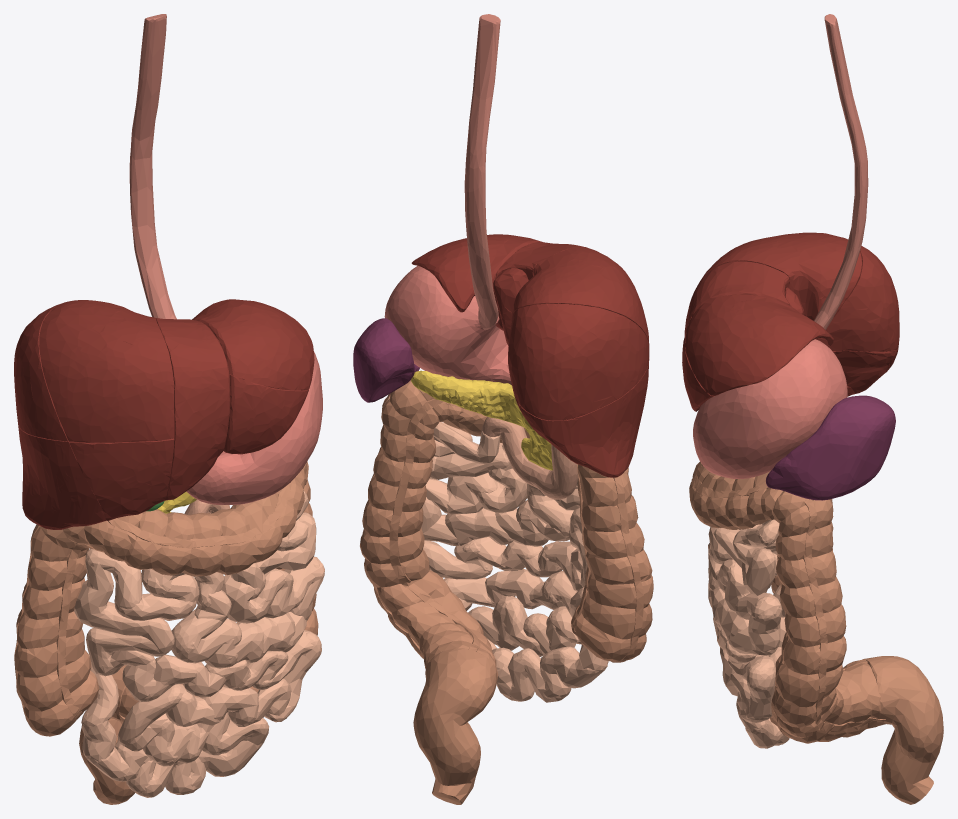
Rendered from digestive.glb.
3 renders of one model, left to right at view 1: azimuth 30°, elevation 25°; view 2: azimuth 150°, elevation 25°; view 3: azimuth 270°, elevation 25°, orthographic. The views are drawn at different scales.
Visible parts, largest first — view 1: liver, smallint, largeint, esophagus, stomach; view 2: largeint, liver, smallint, stomach, esophagus, pancreas, spleen, duodenum; view 3: largeint, liver, smallint, stomach, spleen, esophagus.
Boxes of the visible parts, x1,y1,x2,y2 form: liver: (14,299,314,529); smallint: (74,490,324,797); largeint: (14,461,318,804); esophagus: (129,14,176,319); stomach: (186,352,322,504); largeint: (360,380,653,804); liver: (411,234,649,477); smallint: (421,422,608,702); stomach: (384,265,511,385); esophagus: (464,14,500,330); pancreas: (411,370,552,470); spleen: (353,318,419,402); duodenum: (482,416,578,499); largeint: (689,461,943,804); liver: (682,232,899,411); smallint: (708,519,789,748); stomach: (693,339,847,478); spleen: (766,395,895,500); esophagus: (814,14,868,329).
Size of the model in its own units: 0.2441 by 0.633 by 0.1912.
